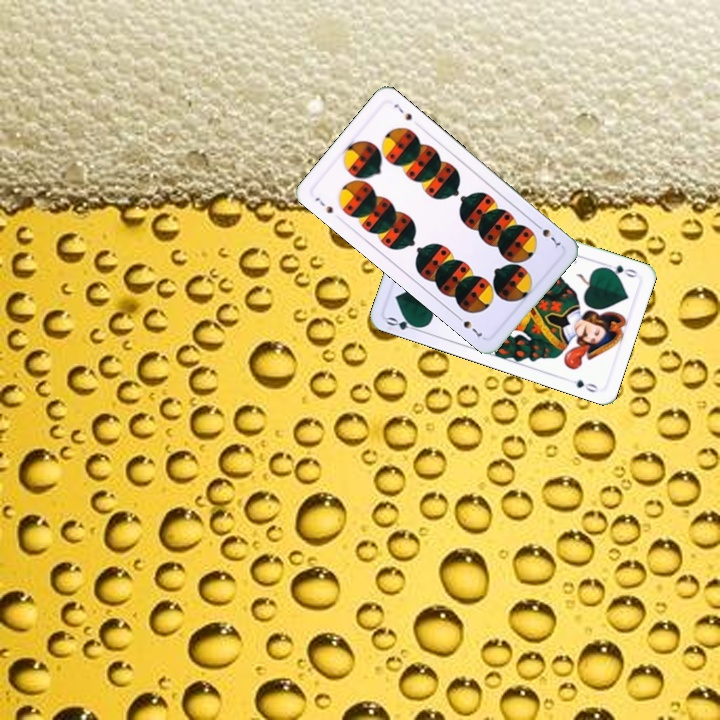GO: (383, 312, 424, 335), (600, 259, 640, 280)
S7: (531, 219, 563, 251), (311, 193, 336, 216)
